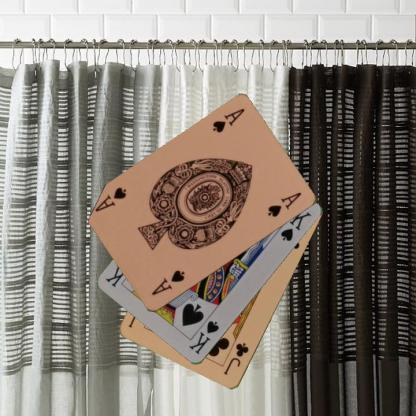As: (149, 267, 186, 297), (210, 106, 246, 134)
Jc: (221, 340, 250, 377)
Ks: (186, 318, 221, 356)
